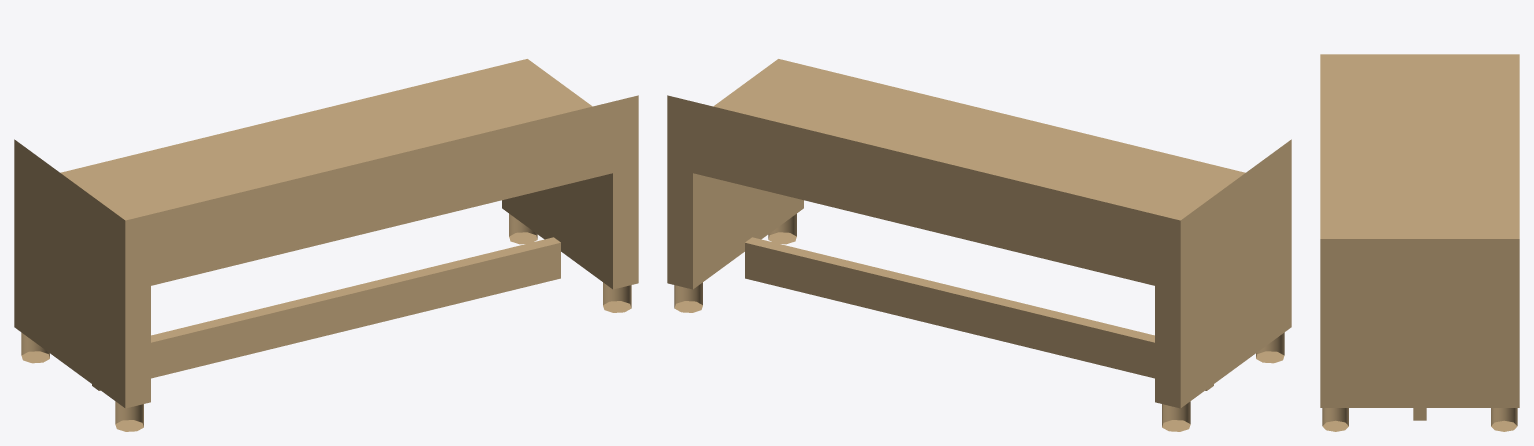
Rendered from bench.glb.
3 views of the same model, side by side, from view 1: azimuth 30°, elevation 25°; view 2: azimuth 150°, elevation 25°; view 3: azimuth 270°, elevation 25° (orthographic). The views are drawn at different scales.
Size of the model in its own units: 1.2 by 0.498 by 0.45.
